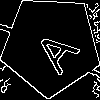A: (26, 21, 81, 76)
